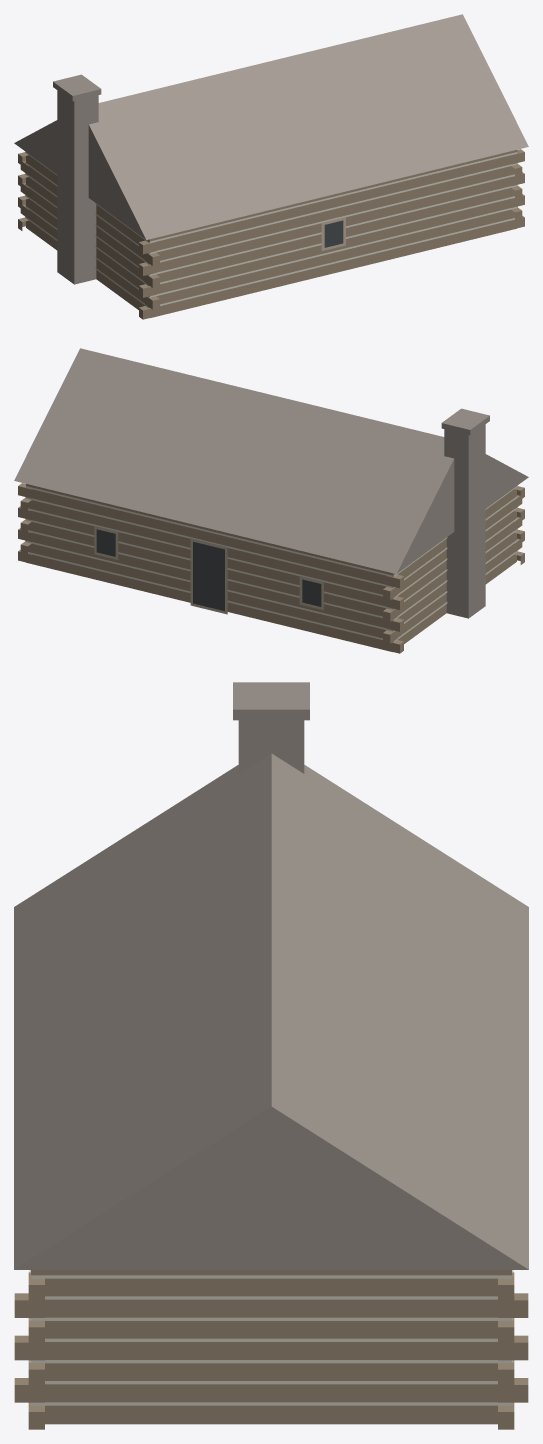
File: council_house__log_1834.glb
3 renders of one model, top to bottom at view 1: azimuth 30°, elevation 25°; view 2: azimuth 150°, elevation 25°; view 3: azimuth 270°, elevation 25°, orthographic. The views are drawn at different scales.
Parts seen in each view (by area): view 1: council_house__log_1834; view 2: council_house__log_1834; view 3: council_house__log_1834.
Part boxes in pixels (left/top/right/bottom): council_house__log_1834: left=14, top=14, right=528, bottom=319; council_house__log_1834: left=14, top=348, right=528, bottom=653; council_house__log_1834: left=14, top=682, right=528, bottom=1429.
Size of the model in its own units: 13.07 by 6.01 by 7.5.
